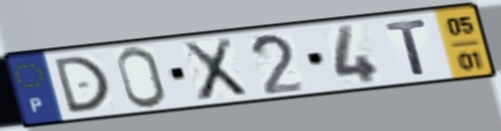0: (113, 44, 170, 111)
2: (248, 32, 307, 97)
4: (332, 22, 382, 86)
D: (50, 53, 113, 117)
T: (383, 17, 431, 77)
X: (179, 35, 251, 104)
